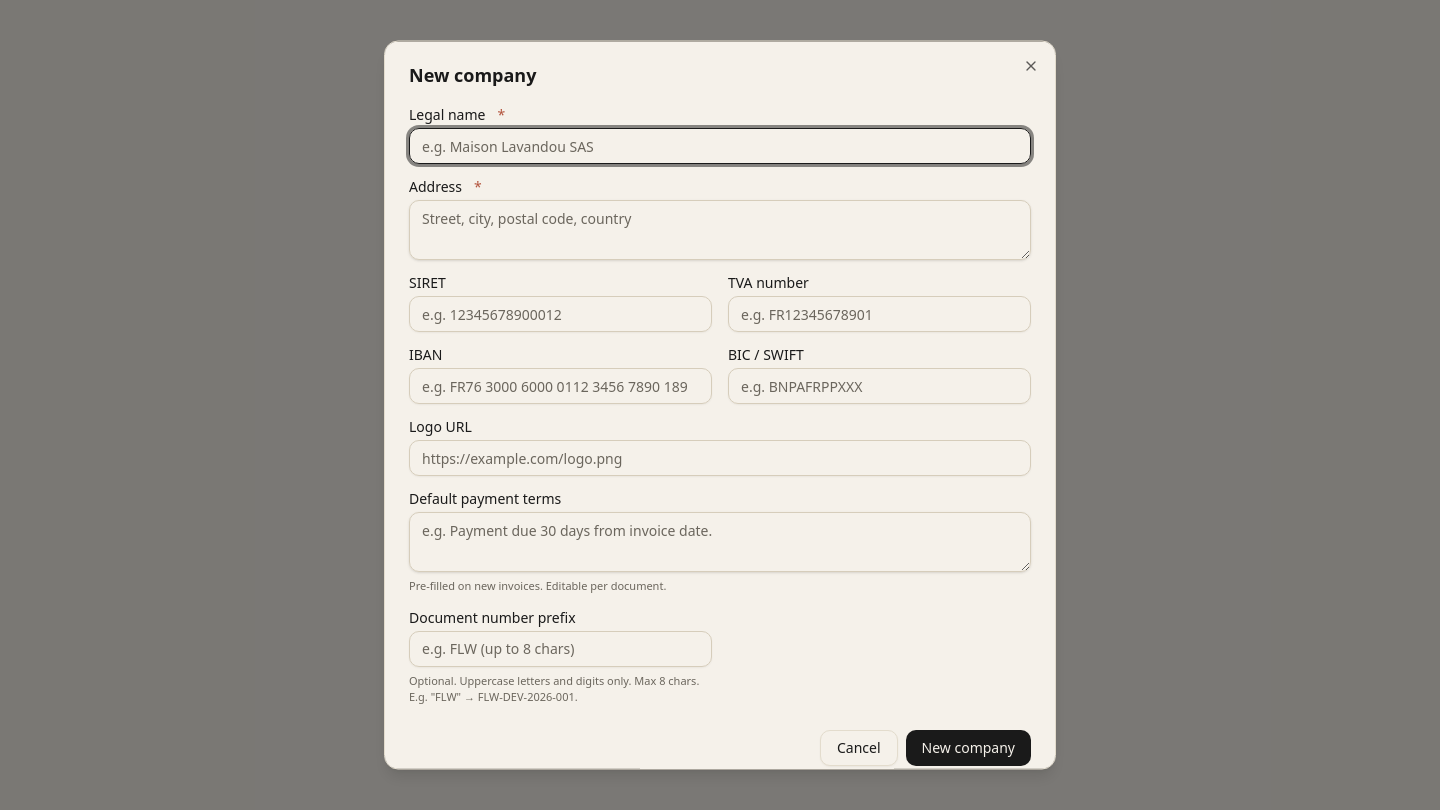
CompanyCreateDialog — required field validation › shows address error when address is empty on submit
Type "ACME" into the field labelled "Legal name *" at (720, 146), box x1=409 y1=128 x2=1031 y2=164
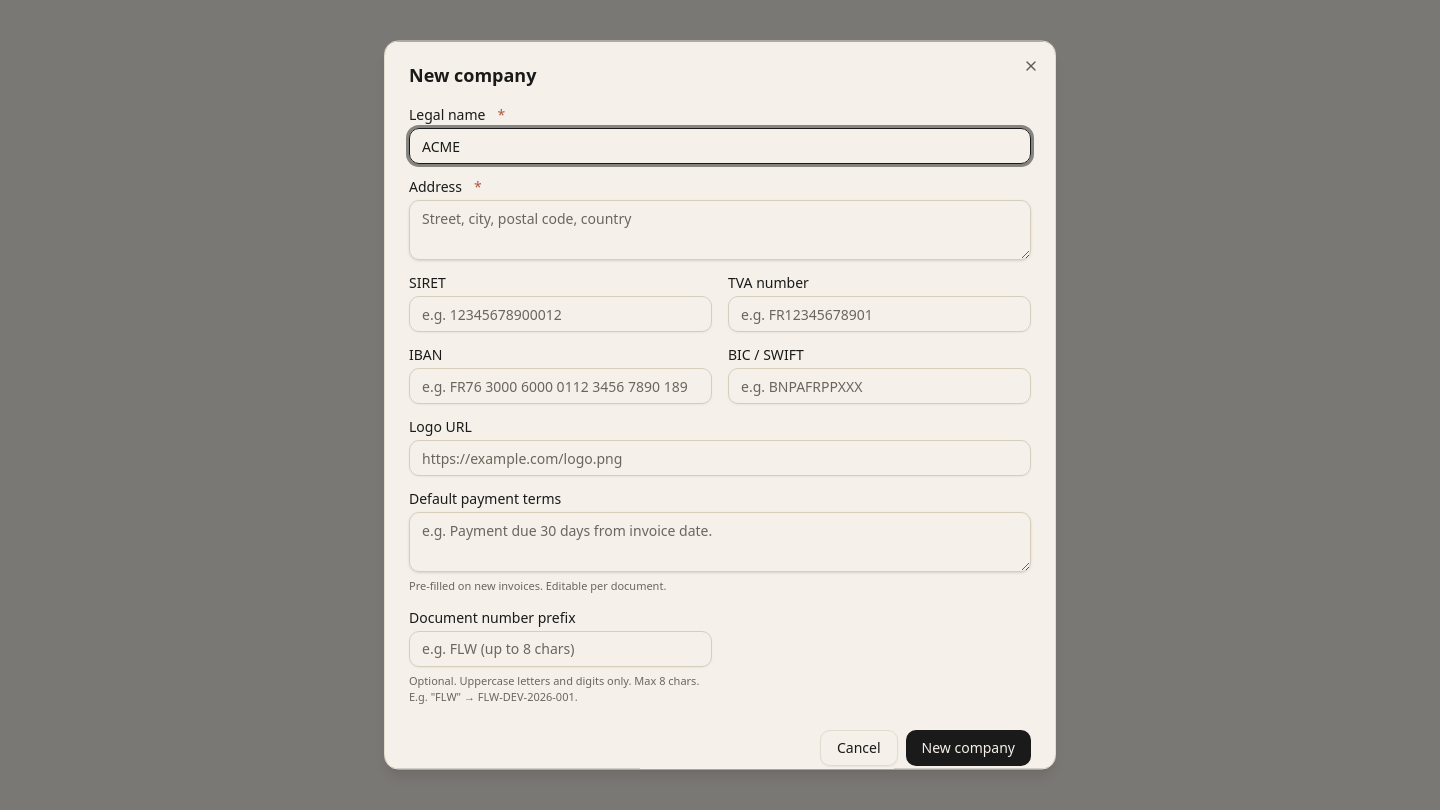
Click the button "New company" at (968, 747), box x1=906 y1=729 x2=1031 y2=765
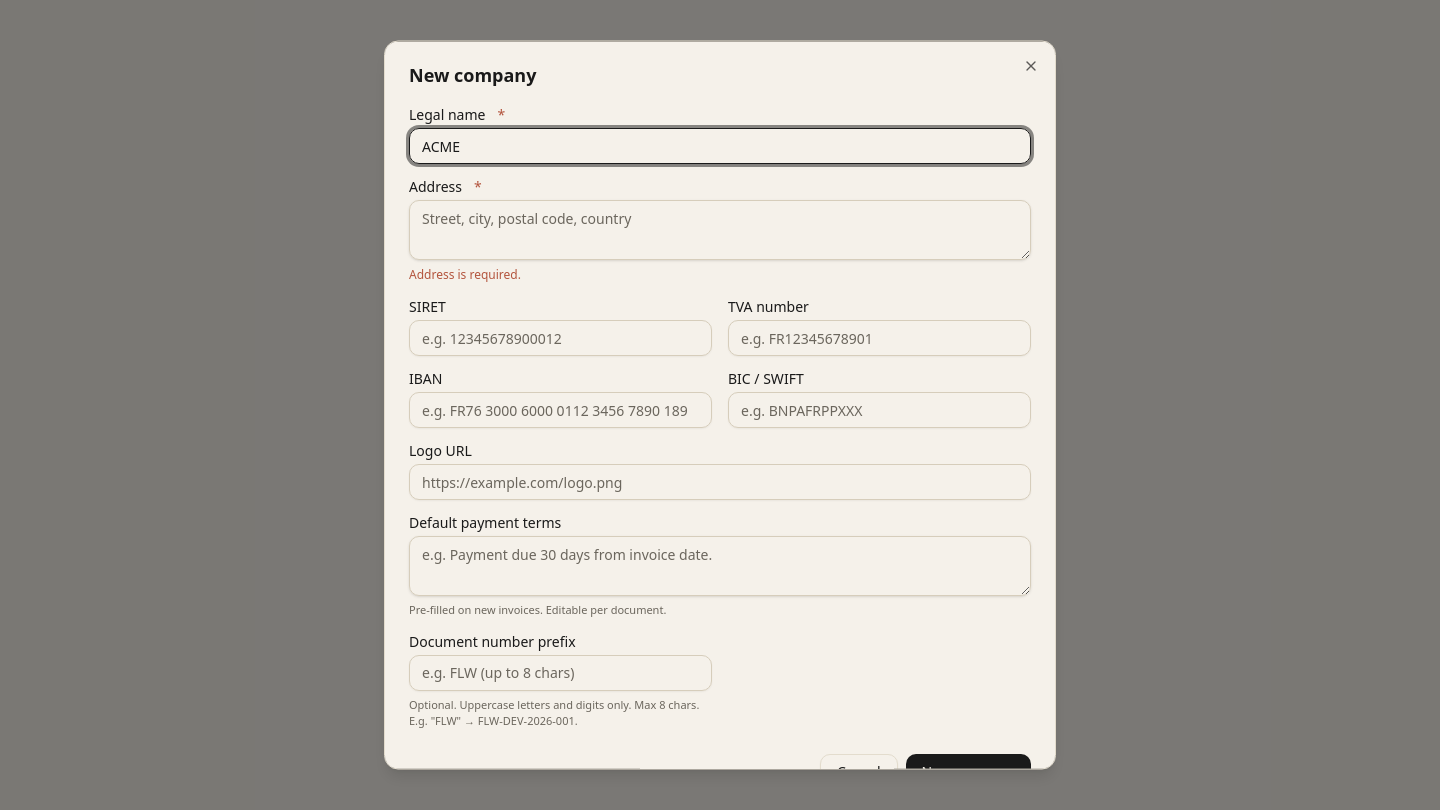
Expected: the text "Address is required." is shown, x1=409 y1=266 x2=521 y2=282
